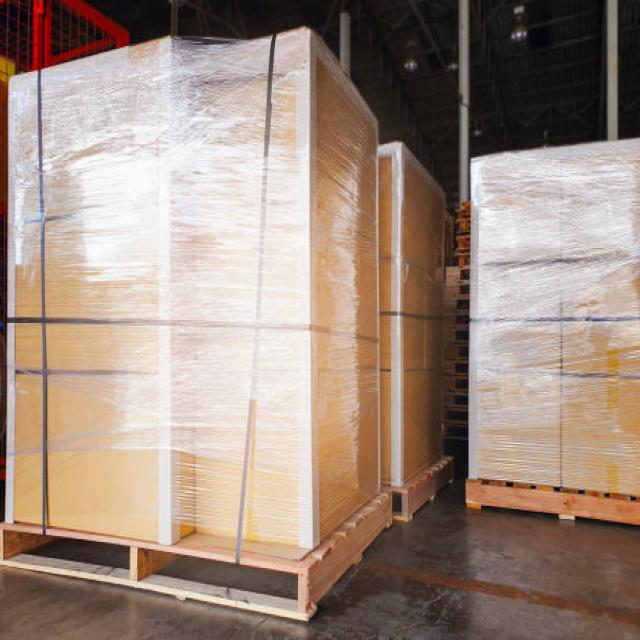Wooden-Pallets: (0, 447, 455, 623), (0, 484, 394, 628), (458, 473, 640, 535), (399, 447, 462, 528)
